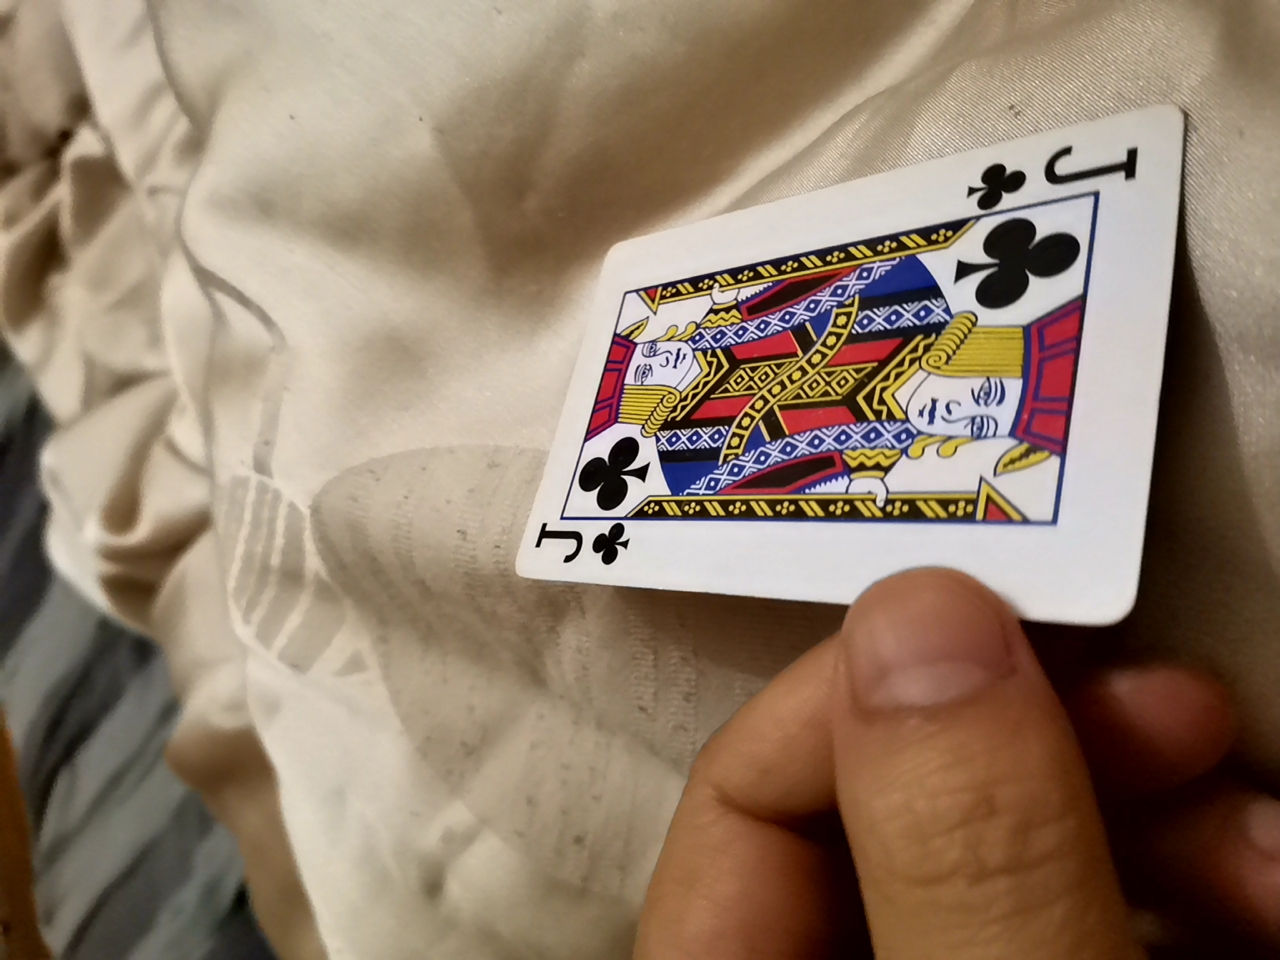mh j: (507, 121, 1182, 622)
